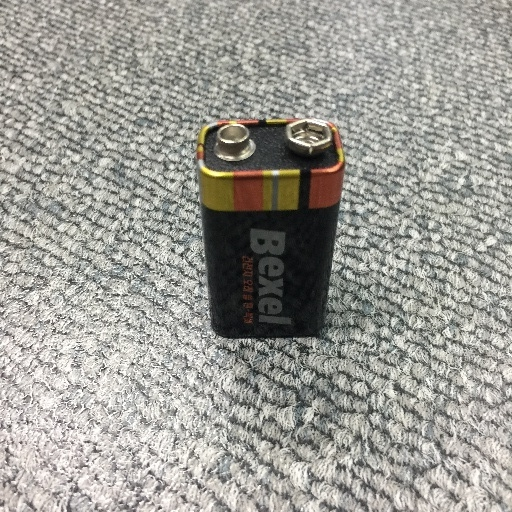Battery_3: (179, 104, 356, 357)
